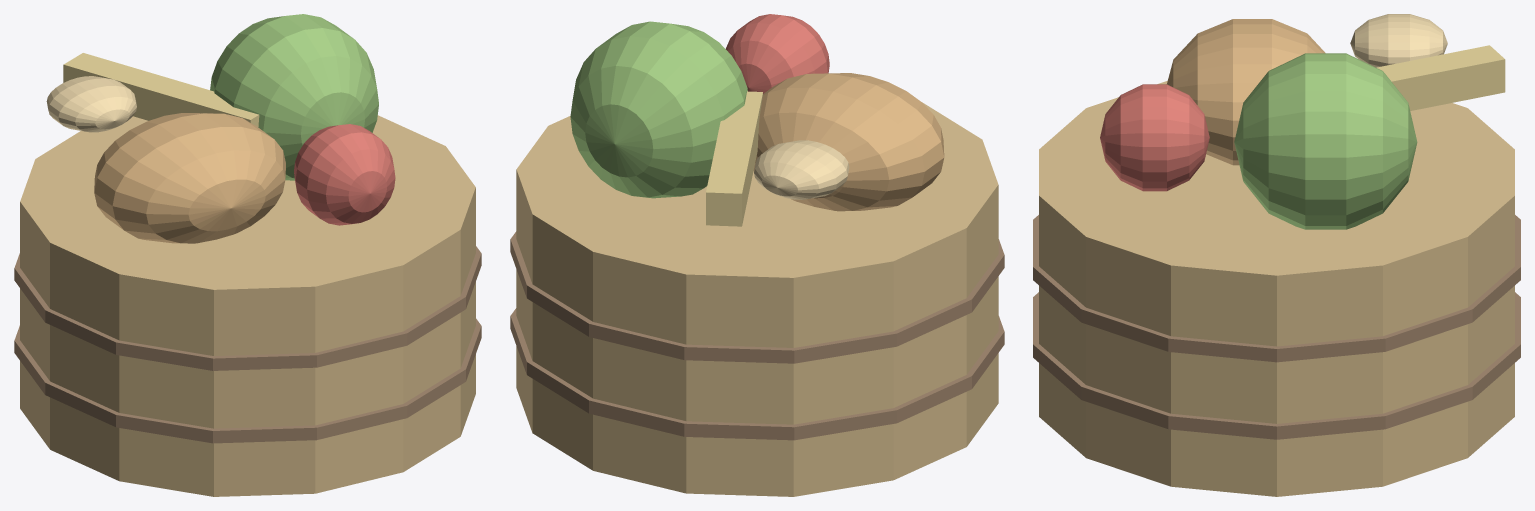
The model's file is item_provisions.glb.
3 renders of one model, left to right at view 1: azimuth 30°, elevation 25°; view 2: azimuth 150°, elevation 25°; view 3: azimuth 270°, elevation 25°, orthographic. The views are drawn at different scales.
Visible parts, largest first — view 1: wicker, crust, leaf, wood_dark, apple, straw, crumb; view 2: wicker, leaf, wood_dark, crust, apple, straw, crumb; view 3: wicker, leaf, wood_dark, crust, apple, straw, crumb.
Boxes of the visible parts, x1,y1,x2,y2 form: wicker: [20, 115, 475, 496]; crust: [94, 113, 285, 243]; leaf: [210, 14, 378, 180]; wood_dark: [14, 246, 481, 443]; apple: [294, 124, 395, 225]; straw: [63, 53, 259, 126]; crumb: [46, 76, 136, 132]; wicker: [516, 102, 998, 496]; leaf: [570, 21, 747, 198]; wood_dark: [510, 231, 1004, 440]; crust: [753, 73, 944, 211]; apple: [726, 14, 829, 93]; straw: [706, 91, 762, 226]; crumb: [754, 140, 849, 199]; wicker: [1039, 81, 1514, 496]; leaf: [1234, 53, 1417, 229]; wood_dark: [1033, 215, 1520, 439]; crust: [1167, 19, 1325, 165]; apple: [1100, 84, 1209, 191]; straw: [1376, 45, 1505, 110]; crumb: [1350, 14, 1447, 67].
Bounding box in the file's own units: 0.41 × 0.3331 × 0.3997.
